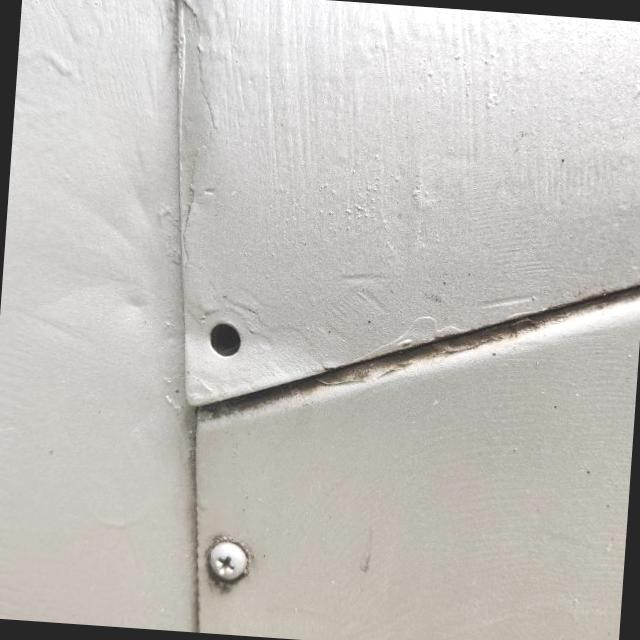Missing Fastener: (208, 322, 241, 356)
